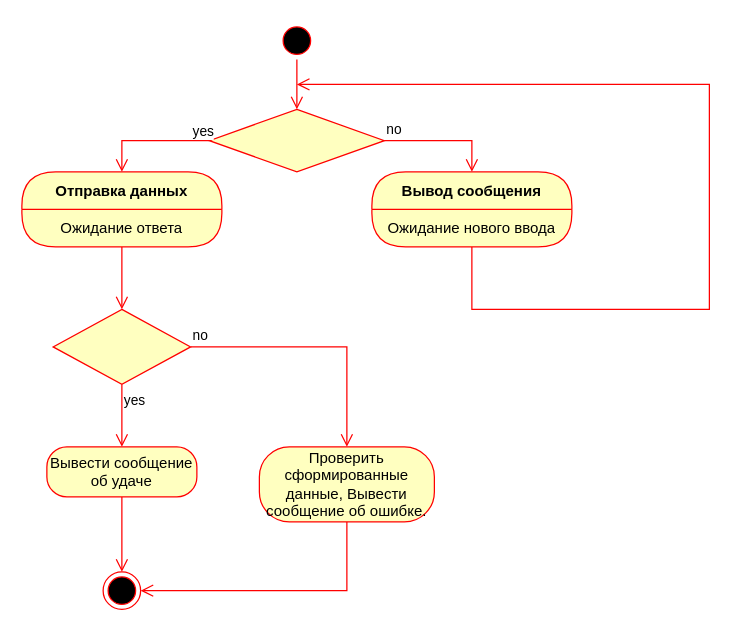
The diagram is 744 pixels wide and 631 high, and some of its shapes have lost their labels. Each missing label, with the centre of its shape:
"Верный артикул?" belongs at (296,140).
"Операция успешна?" belongs at (121,346).
